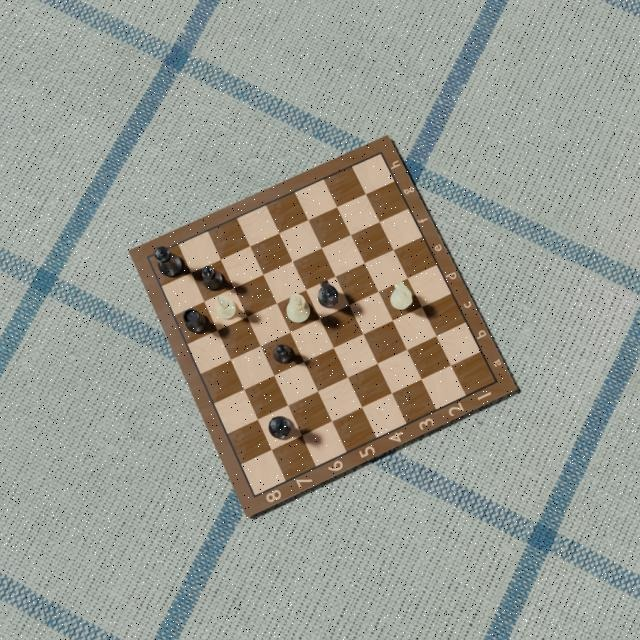black-bishop: (200, 266, 225, 290)
black-king: (154, 245, 184, 279)
black-knight: (315, 280, 341, 308)
black-pawn: (271, 342, 292, 365)
black-queen: (267, 414, 292, 441)
black-rook: (183, 308, 209, 336)
white-bishop: (214, 293, 238, 321)
white-king: (285, 291, 311, 324)
white-knight: (389, 279, 414, 313)
